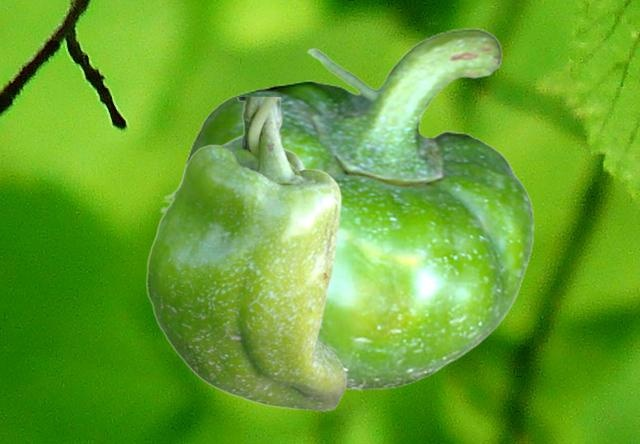bell_pepper: (179, 27, 533, 389), (145, 97, 346, 410)
